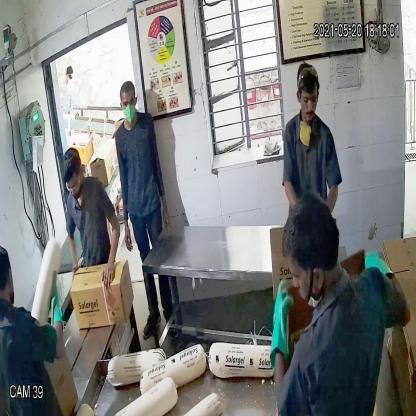goggles: (63, 174, 84, 194)
no_goggles: (296, 87, 321, 109), (117, 93, 142, 113)
